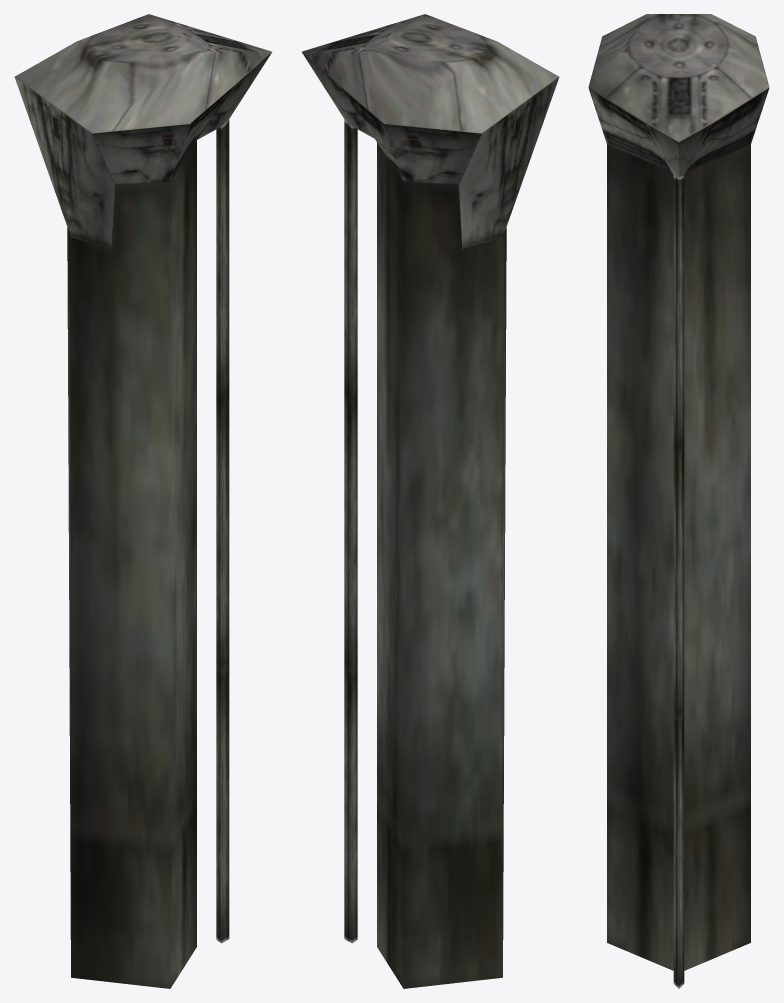
The model's file is ins_all_min_s02_u1_piston_l3.fbx.
3 renders of one model, left to right at view 1: azimuth 30°, elevation 25°; view 2: azimuth 150°, elevation 25°; view 3: azimuth 270°, elevation 25°, orthographic.
Parts seen in each view (by area): view 1: mesh_node; view 2: mesh_node; view 3: mesh_node.
Part boxes in pixels (box(x1,y1,x2,y2)): mesh_node: box(14, 14, 271, 988); mesh_node: box(302, 14, 559, 988); mesh_node: box(588, 14, 769, 988).
Size of the model in its own units: 2.98 by 11.94 by 2.16.
